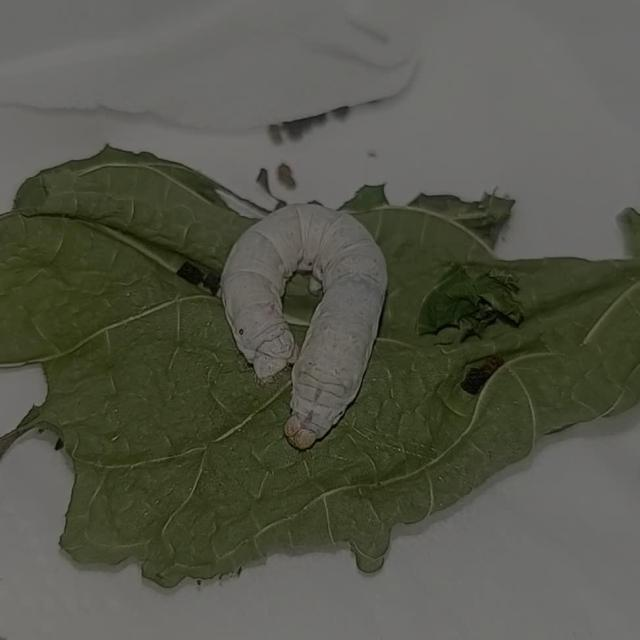Healthy: (218, 192, 396, 461)
